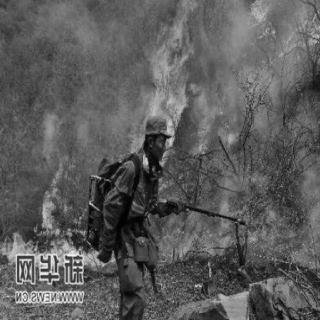Fire: (127, 4, 209, 160), (2, 153, 108, 267), (246, 0, 272, 23), (307, 28, 320, 46)
Smoke: (44, 113, 58, 143)
other: (92, 117, 186, 319)
